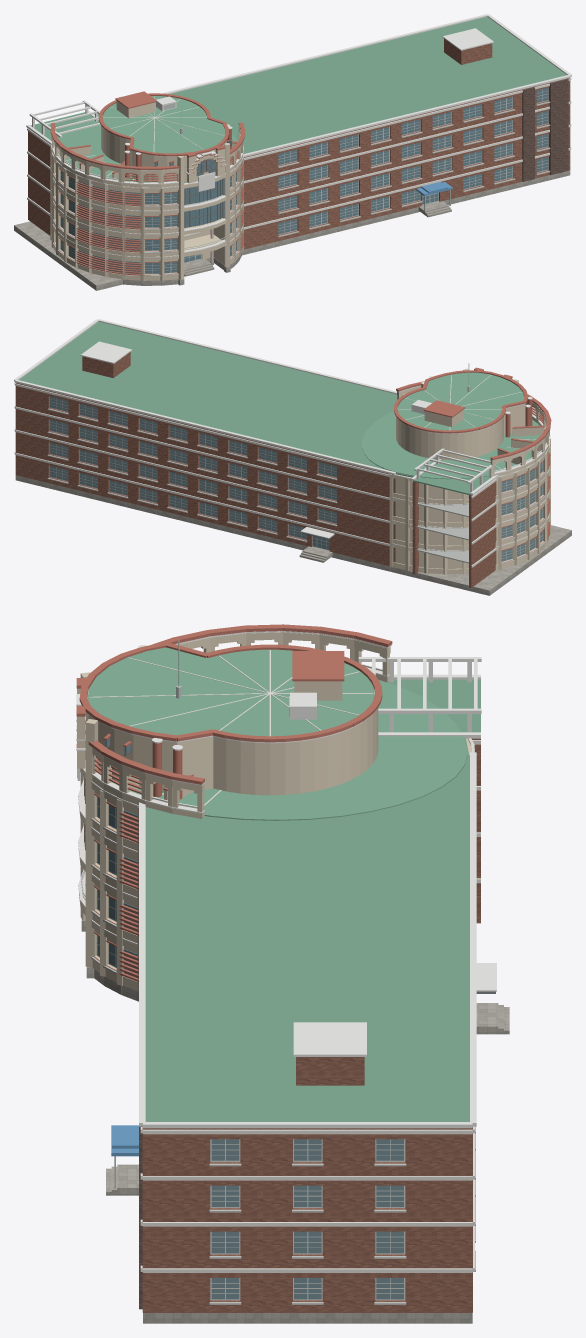
3 renders of one model, top to bottom at view 1: azimuth 30°, elevation 25°; view 2: azimuth 150°, elevation 25°; view 3: azimuth 270°, elevation 25°, orthographic. The views are drawn at different scales.
Parts seen in each view (by area): view 1: main__roof, main__brick, main__rotundatrim, main__glass, main__terracottatrim, main__greenroof, main__cap, main__frame, main__band, main__stone, main__archornament, main__darkbrick (+7 smaller); view 2: main__brick, main__roof, main__rotundatrim, main__sideglass, main__greenroof, main__cap, main__band, main__frame, main__stone, main__rotundawall, main__terracottatrim, main__sill (+2 smaller); view 3: main__roof, main__brick, main__greenroof, main__rotundatrim, main__cap, main__terracottatrim, main__band, main__sideglass, main__stone, main__frame, main__bandtrim, main__sill (+3 smaller).
Boxes of the visible parts, left/top/right/bottom form: main__roof: left=30, top=16, right=566, bottom=153; main__brick: left=28, top=38, right=570, bottom=249; main__rotundatrim: left=50, top=101, right=243, bottom=281; main__glass: left=145, top=87, right=548, bottom=273; main__terracottatrim: left=50, top=91, right=244, bottom=275; main__greenroof: left=58, top=96, right=237, bottom=182; main__cap: left=26, top=14, right=571, bottom=157; main__frame: left=55, top=88, right=548, bottom=273; main__band: left=27, top=78, right=571, bottom=229; main__stone: left=14, top=170, right=570, bottom=290; main__archornament: left=78, top=141, right=241, bottom=273; main__darkbrick: left=522, top=78, right=568, bottom=181; main__brick: left=15, top=352, right=496, bottom=587; main__roof: left=19, top=321, right=537, bottom=495; main__rotundatrim: left=389, top=368, right=550, bottom=574; main__sideglass: left=50, top=396, right=542, bottom=561; main__greenroof: left=362, top=372, right=545, bottom=479; main__cap: left=14, top=319, right=505, bottom=538; main__band: left=14, top=383, right=497, bottom=567; main__frame: left=49, top=396, right=542, bottom=561; main__stone: left=15, top=475, right=571, bottom=595; main__rotundawall: left=395, top=459, right=544, bottom=568; main__terracottatrim: left=394, top=367, right=551, bottom=562; main__sill: left=47, top=408, right=545, bottom=564; main__roof: left=145, top=679, right=480, bottom=1121; main__brick: left=142, top=738, right=480, bottom=1312; main__greenroof: left=87, top=647, right=467, bottom=820; main__rotundatrim: left=77, top=632, right=474, bottom=992; main__cap: left=139, top=657, right=496, bottom=1128; main__terracottatrim: left=76, top=624, right=392, bottom=971; main__band: left=140, top=740, right=480, bottom=1272; main__sideglass: left=211, top=1139, right=403, bottom=1299; main__stone: left=81, top=919, right=472, bottom=1323; main__frame: left=96, top=804, right=405, bottom=1300; main__bandtrim: left=77, top=650, right=474, bottom=945; main__sill: left=91, top=818, right=475, bottom=1304.
Size of the model in its own units: 73.28 by 22.96 by 28.92.
25 materials, 6 textured.
